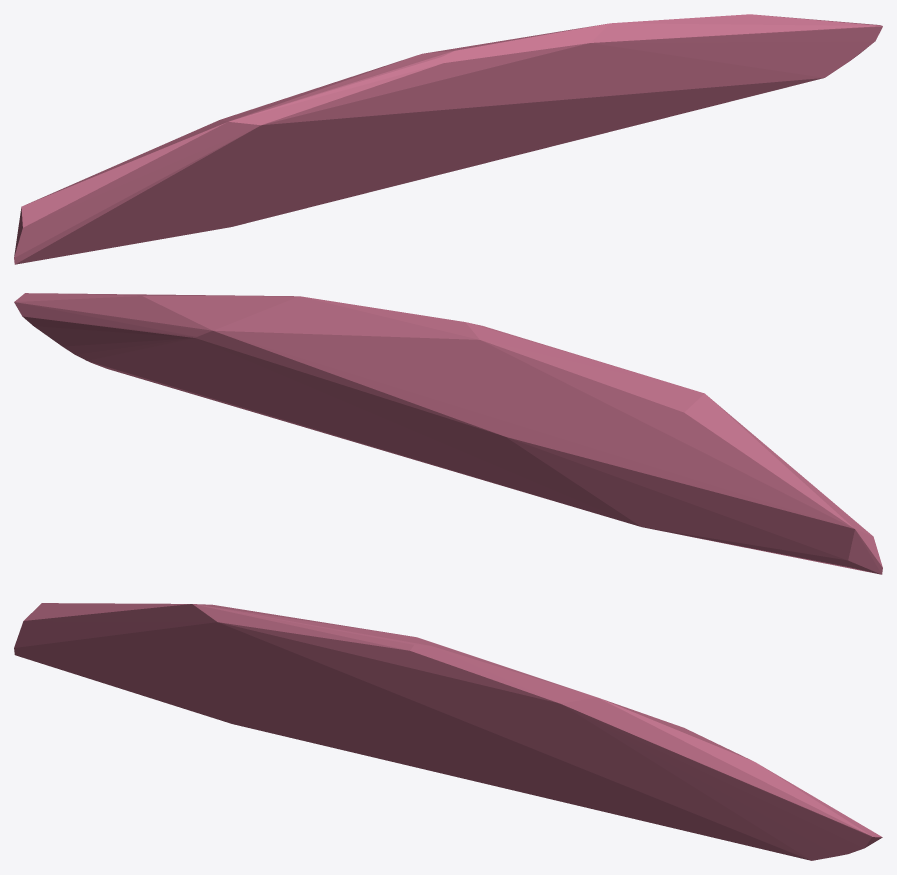
The model's file is handTool_pliers_combination_b01.glb.
3 views of the same model, one above another, from view 1: azimuth 30°, elevation 25°; view 2: azimuth 150°, elevation 25°; view 3: azimuth 330°, elevation 25° (orthographic). The views are drawn at different scales.
Parts seen in each view (by area): view 1: geometry_0; view 2: geometry_0; view 3: geometry_0.
Boxes of the visible parts, x1,y1,x2,y2 form: geometry_0: (14,14,882,264); geometry_0: (14,293,882,574); geometry_0: (14,603,882,860).
Bounding box in the file's own units: 0.4797 × 0.0743 × 0.0356.
